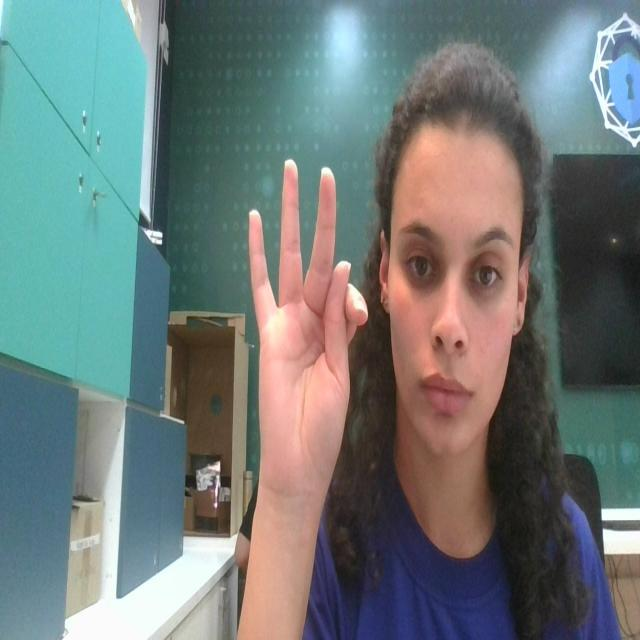T: (231, 147, 369, 456)
